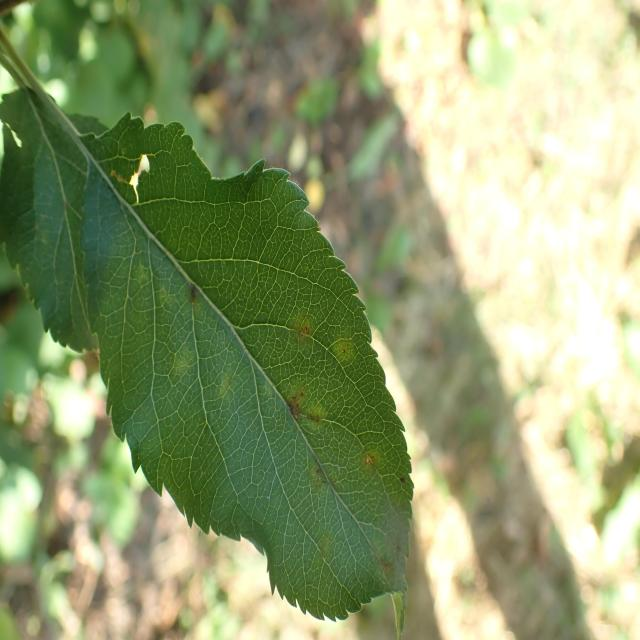scab: (105, 187, 406, 592)
